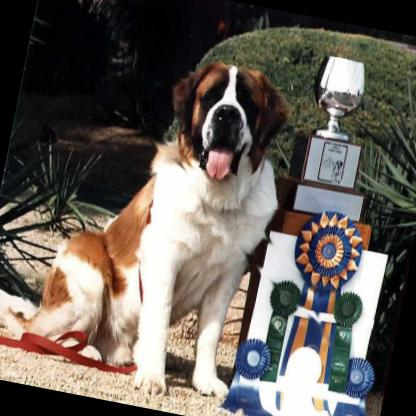Saint_Bernard: (0, 22, 308, 414)
